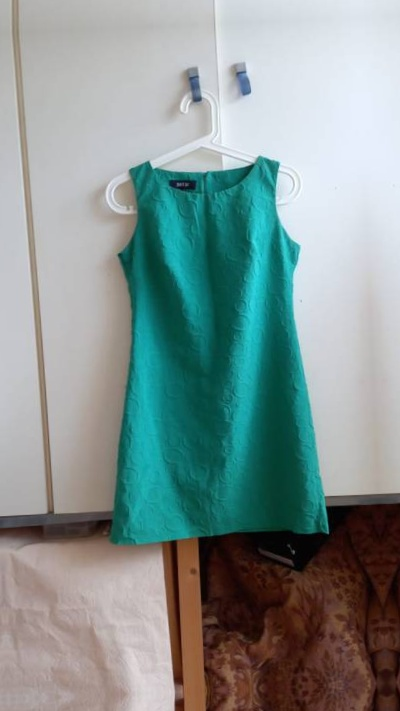Dress: (49, 121, 354, 587), (390, 106, 400, 572)
